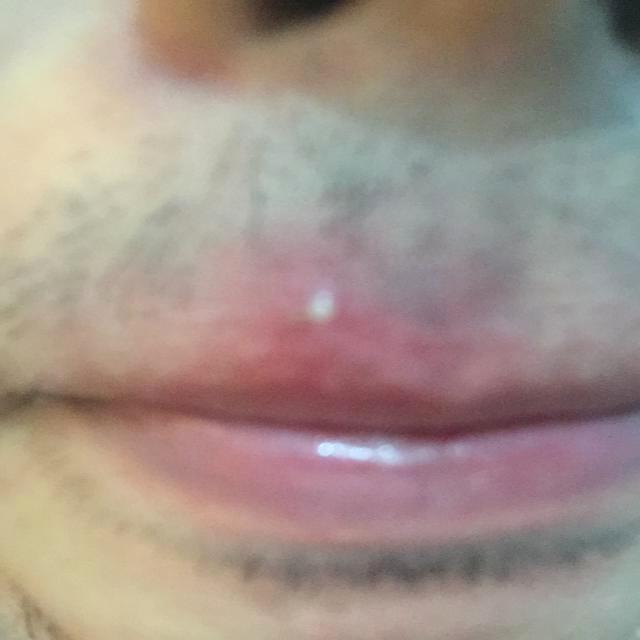Pimples: (289, 279, 350, 341)
